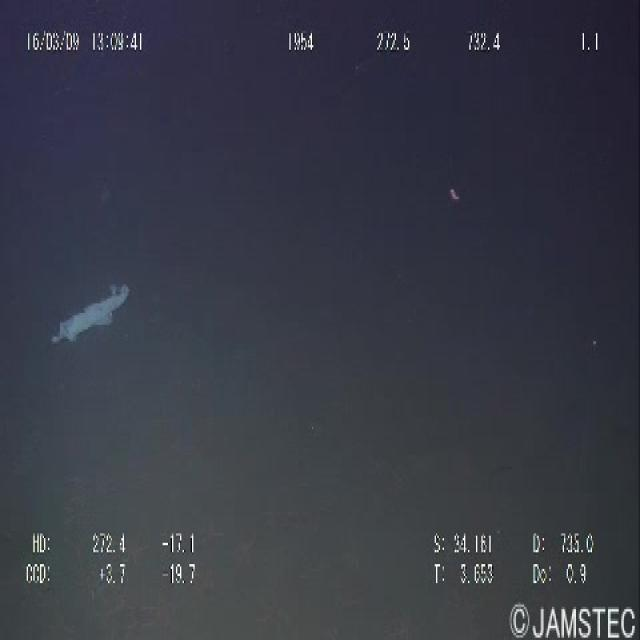plastic: (39, 270, 134, 363)
